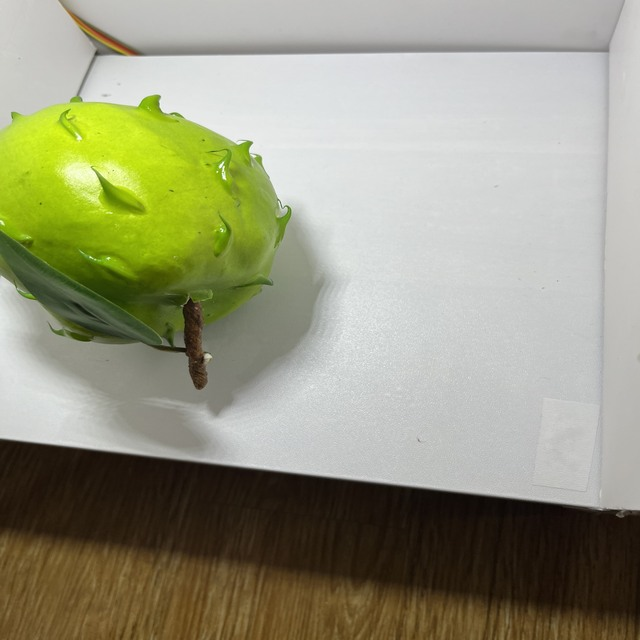Man cau: (0, 83, 297, 364)
